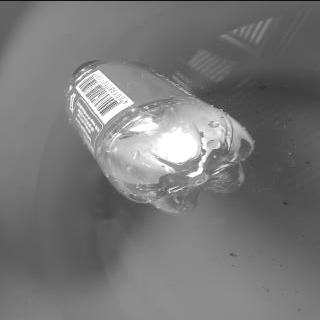bottle: (63, 58, 254, 214)
